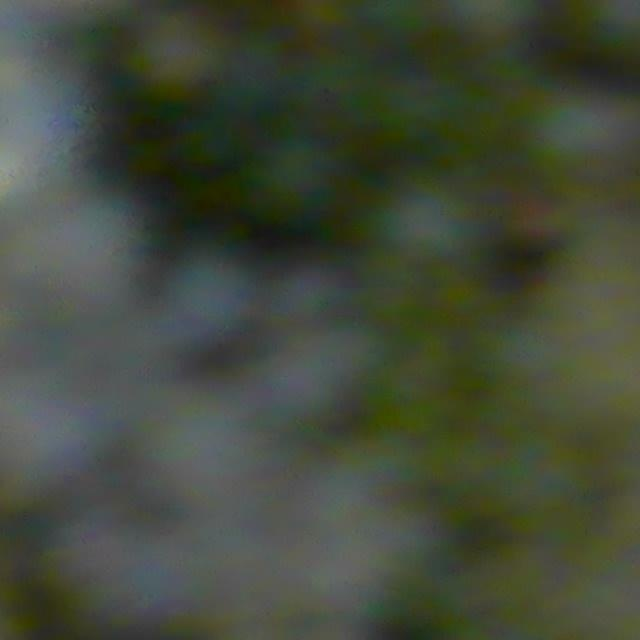SeaGrape: (137, 387, 244, 494), (0, 377, 100, 484), (376, 175, 480, 269), (74, 531, 178, 624), (528, 86, 627, 176), (300, 513, 393, 606), (41, 214, 126, 309), (266, 332, 344, 424), (0, 68, 77, 146), (181, 261, 248, 343), (270, 280, 348, 343), (0, 139, 48, 209)
